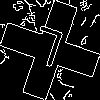L: (25, 25, 66, 77)
